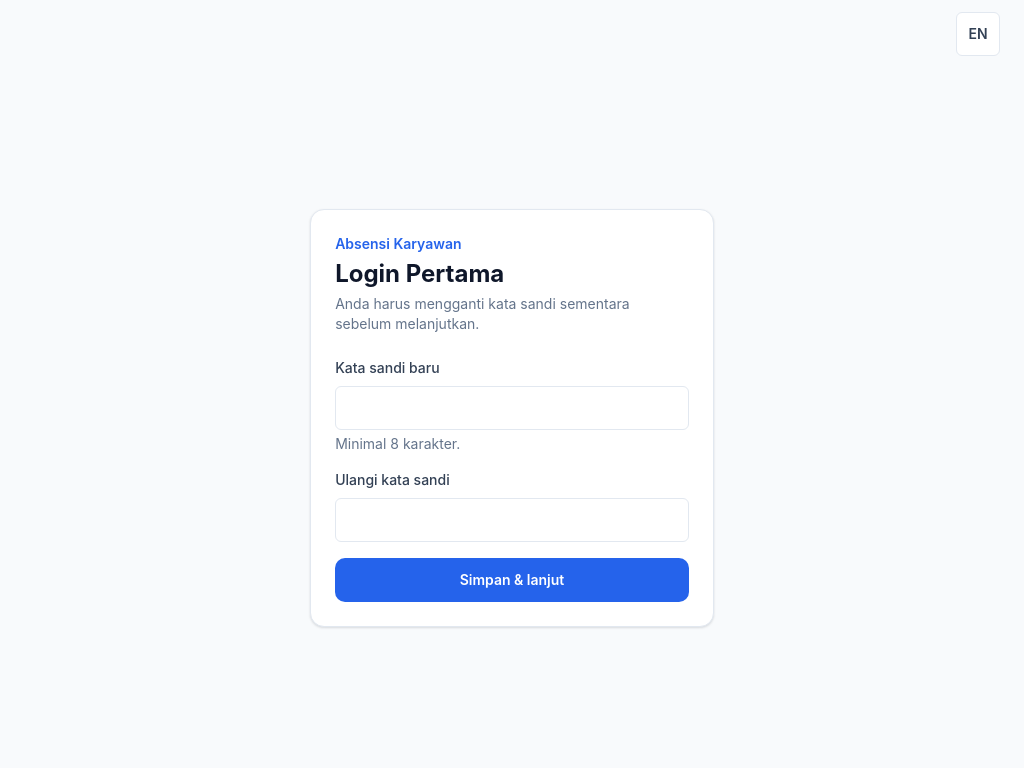
Test: FirstLoginPage › routes an unexpected server failure through the same shared state
Type "brand-new-pass" into the password field labelled "Kata sandi baru". click: coordinates (512, 408)
box: [335,386,689,430]
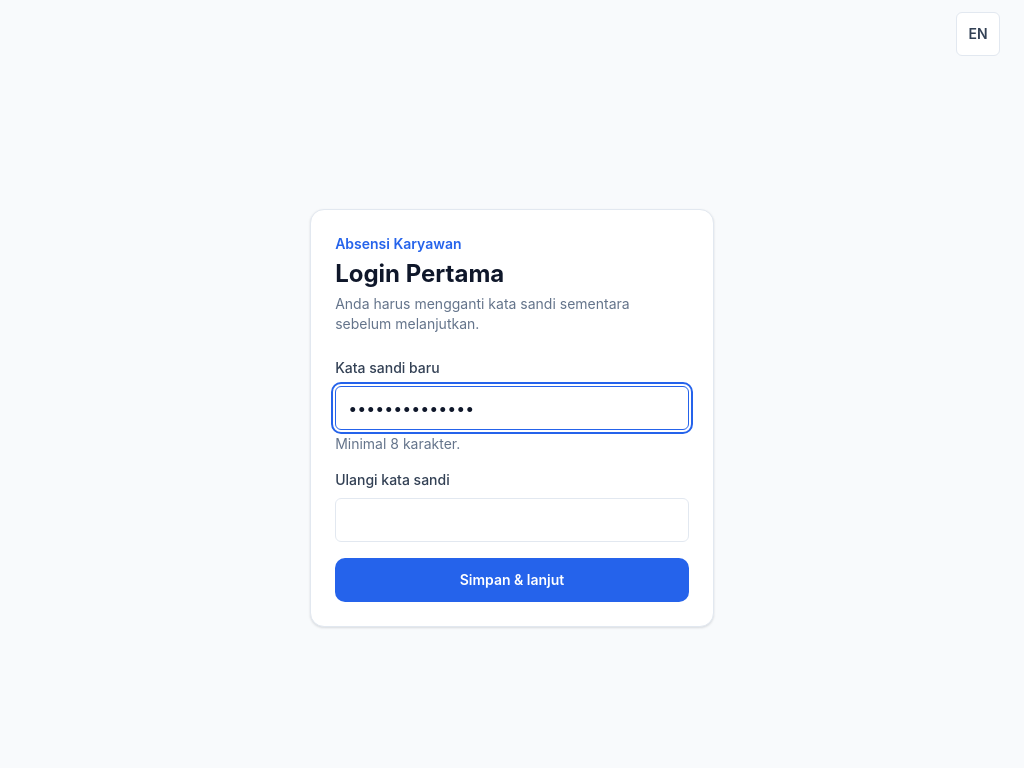
Type "brand-new-pass" into the password field labelled "Ulangi kata sandi". click: coordinates (512, 520)
box: [335,498,689,542]
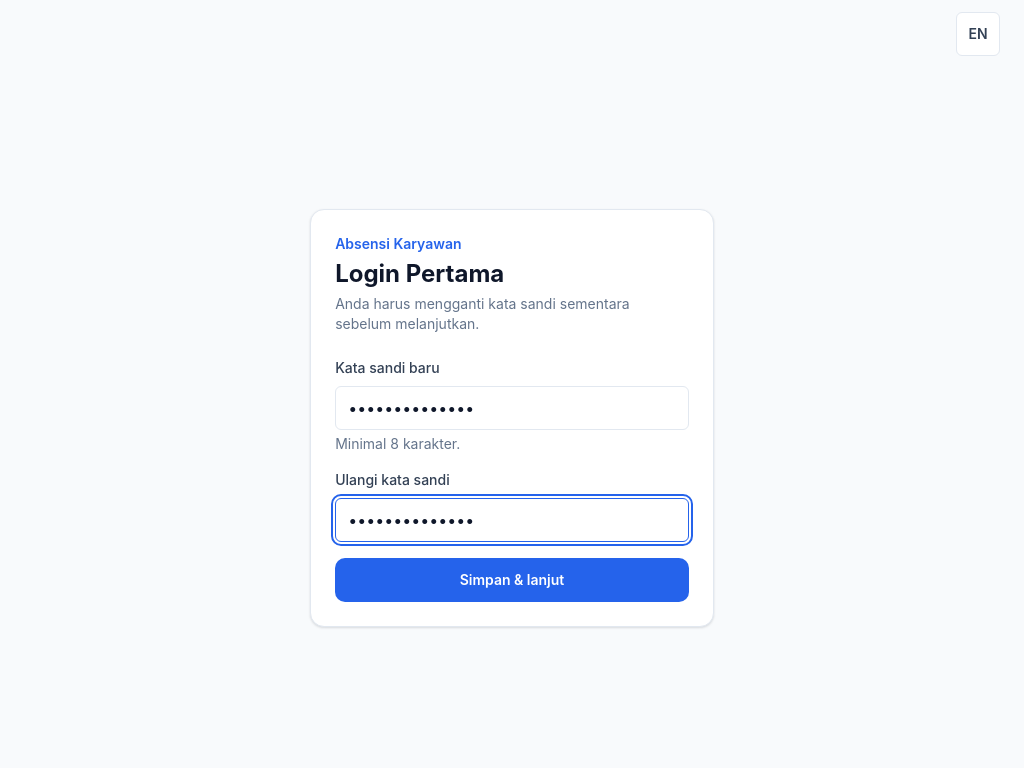
Click the button "Simpan & lanjut". click: coordinates (512, 580)
box: [335,558,689,602]
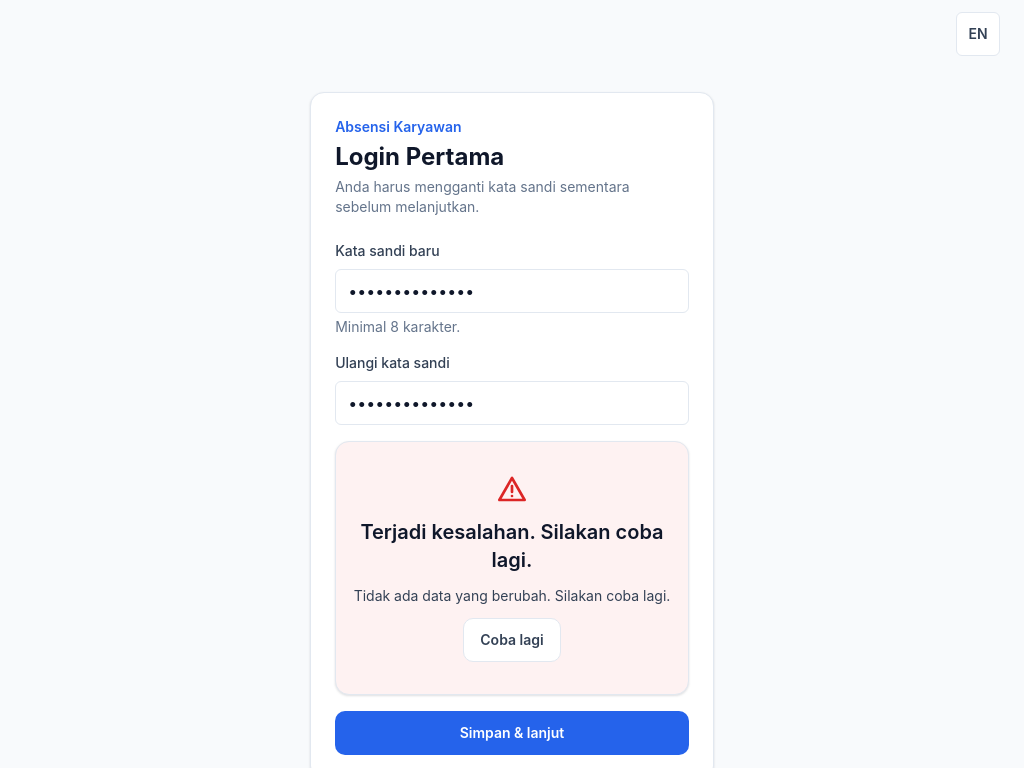
Now the message with test id "server-error-state" shows "Terjadi kesalahan. Silakan coba lagi.", box [360,520,664,572]
